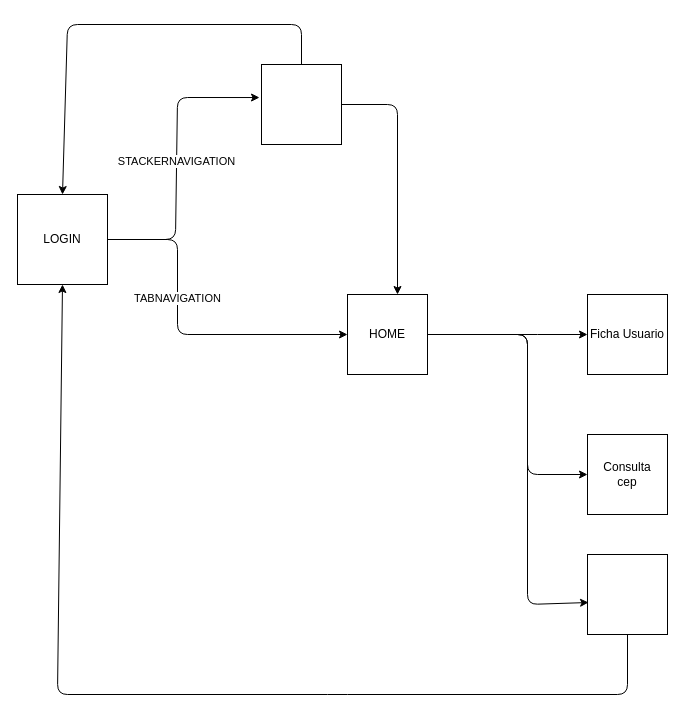
Some shapes in this 685 by 720 pixel diagram are drawn without their labels. Here are the shapes that lost their labels. From the top down, the centre of each, then its label:
At point (301, 104): "REGISTRAR".
At point (627, 594): "Sair".
